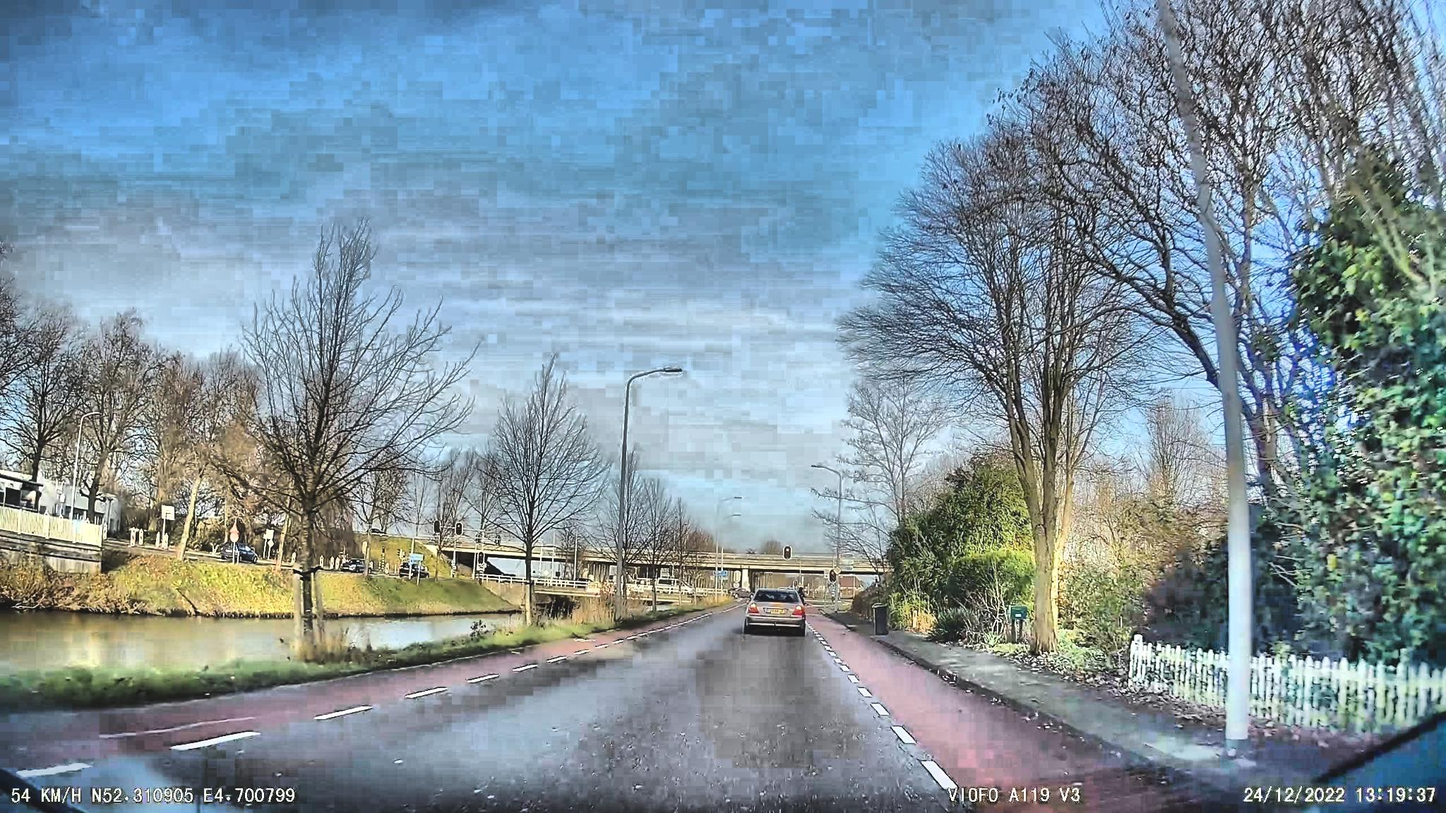Roads: (0, 613, 1241, 813)
